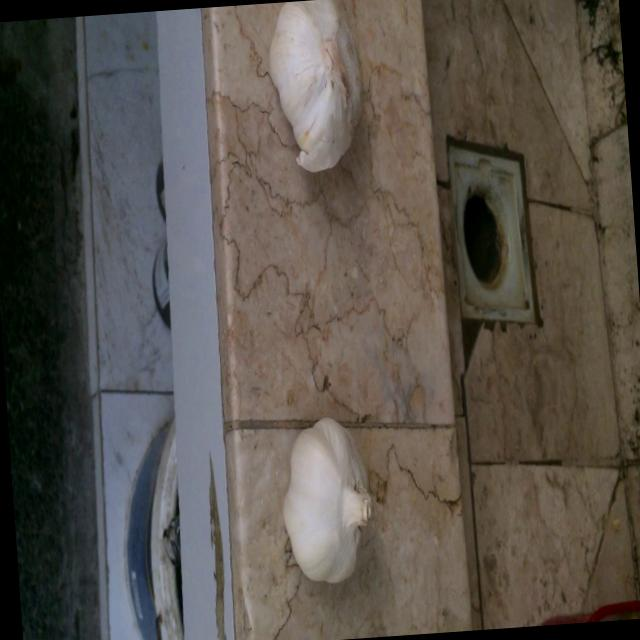bawang: (259, 0, 373, 185), (274, 420, 388, 594)
